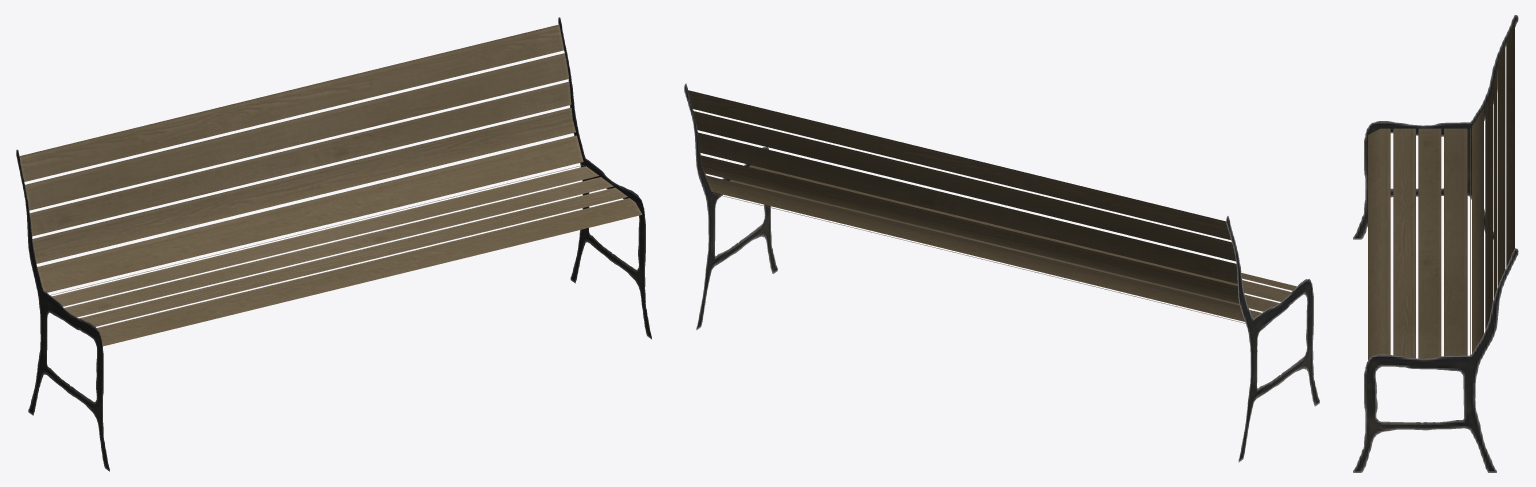
The model's file is bench_3_v1.obj.
3 views of the same model, side by side, from view 1: azimuth 30°, elevation 25°; view 2: azimuth 150°, elevation 25°; view 3: azimuth 270°, elevation 25° (orthographic). The views are drawn at different scales.
Parts seen in each view (by area): view 1: bench_3_v1; view 2: bench_3_v1; view 3: bench_3_v1.
Part boxes in pixels (box(x1,y1,x2,y2)): bench_3_v1: box(16, 17, 651, 471); bench_3_v1: box(684, 83, 1319, 462); bench_3_v1: box(1353, 15, 1518, 472).
Bounding box in the file's own units: 1.94 × 0.8763 × 0.6021.
1 material, 1 textured.
